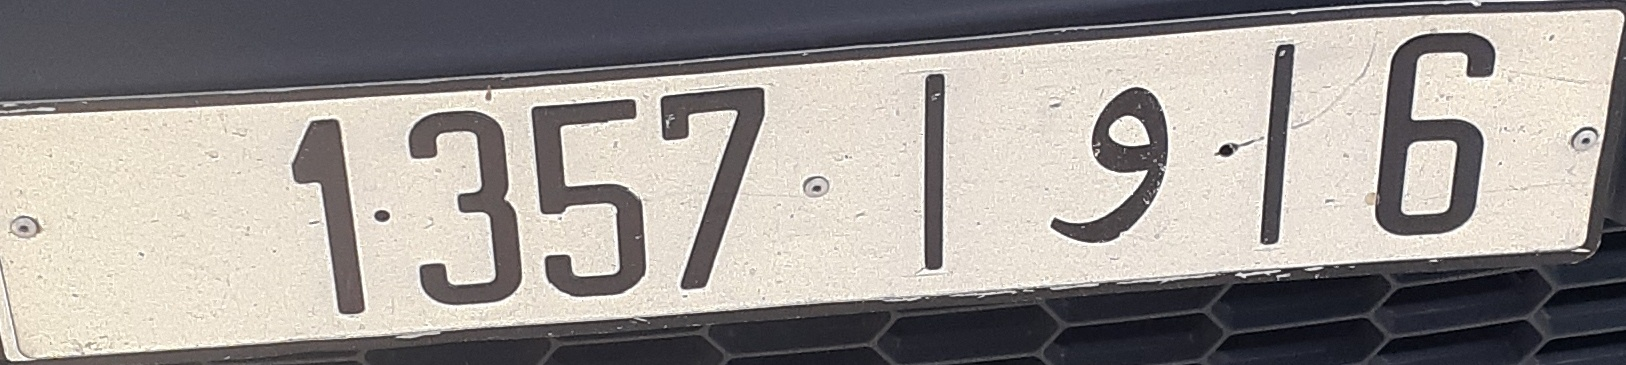1: (282, 114, 380, 316)
3: (399, 105, 529, 312)
5: (525, 90, 652, 299)
6: (1373, 26, 1499, 239)
7: (652, 82, 773, 293)
waw: (1047, 76, 1177, 251)
